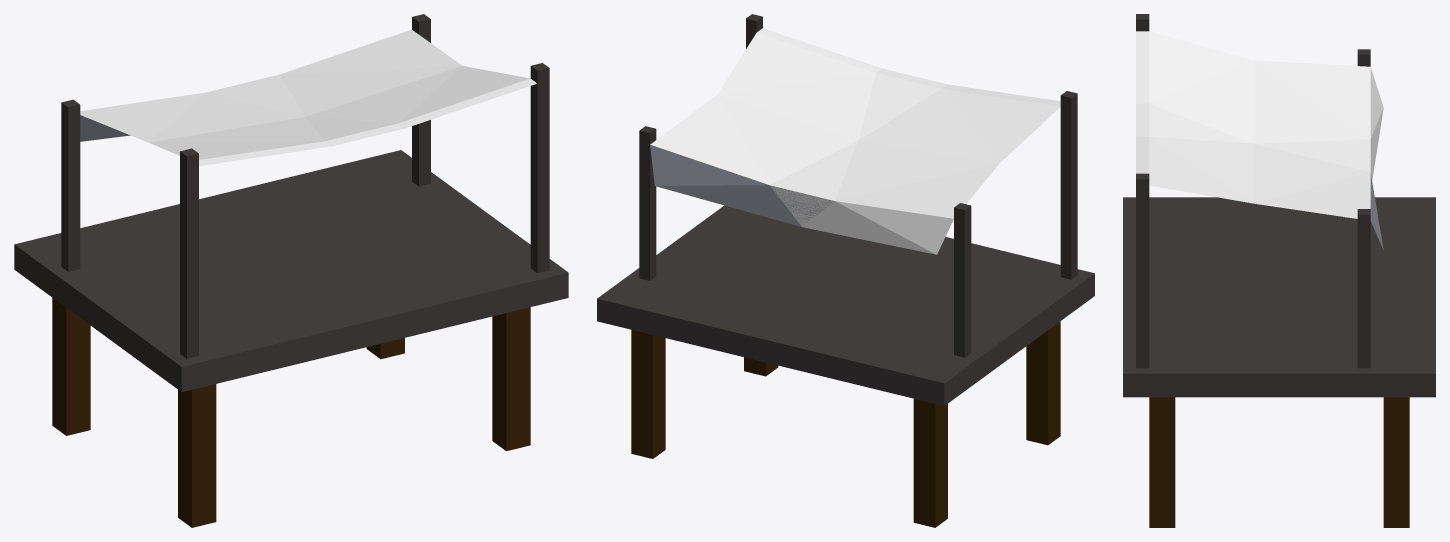
File: obj_market_stall_0.obj
The picture shows the model from 3 angles, left to right: view 1: azimuth 30°, elevation 25°; view 2: azimuth 150°, elevation 25°; view 3: azimuth 270°, elevation 25°; orthographic projection. The views are drawn at different scales.
Size of the model in its own units: 2 by 1.88 by 1.5.
